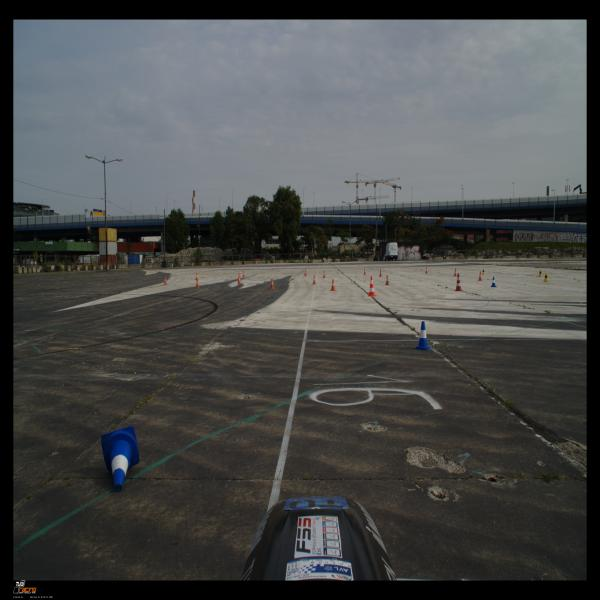blue_cone: (101, 426, 140, 492), (414, 321, 432, 350), (491, 277, 496, 287)
large_orange_cone: (454, 273, 463, 291), (368, 276, 376, 296)
orange_cone: (330, 279, 336, 291), (384, 275, 390, 285), (270, 278, 275, 289), (478, 271, 483, 281), (195, 279, 200, 288), (312, 275, 316, 284), (238, 276, 242, 284), (379, 269, 382, 277), (164, 276, 167, 284), (454, 269, 457, 276), (323, 271, 326, 278), (304, 269, 307, 276), (195, 273, 198, 280), (425, 267, 428, 273), (242, 271, 245, 277), (364, 268, 366, 275)
yellow_cone: (543, 272, 549, 282), (538, 269, 543, 277), (482, 268, 485, 275)
